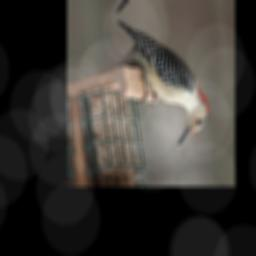Woodpecker: (110, 7, 213, 157)
